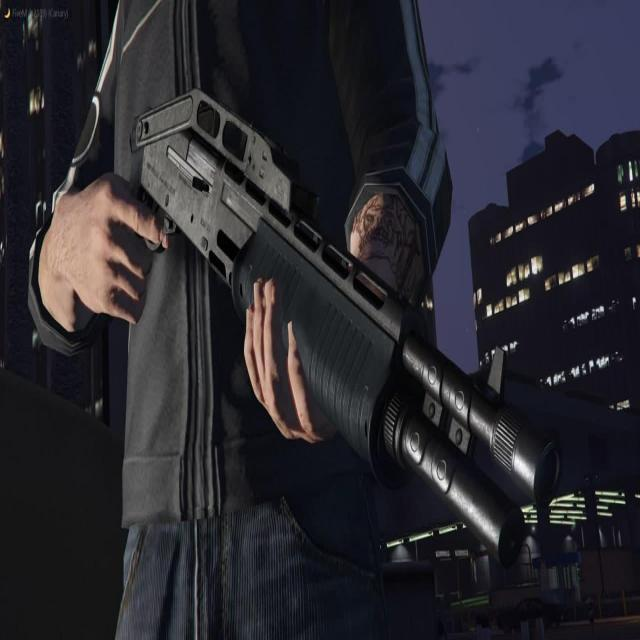shotgun: (122, 93, 546, 558)
